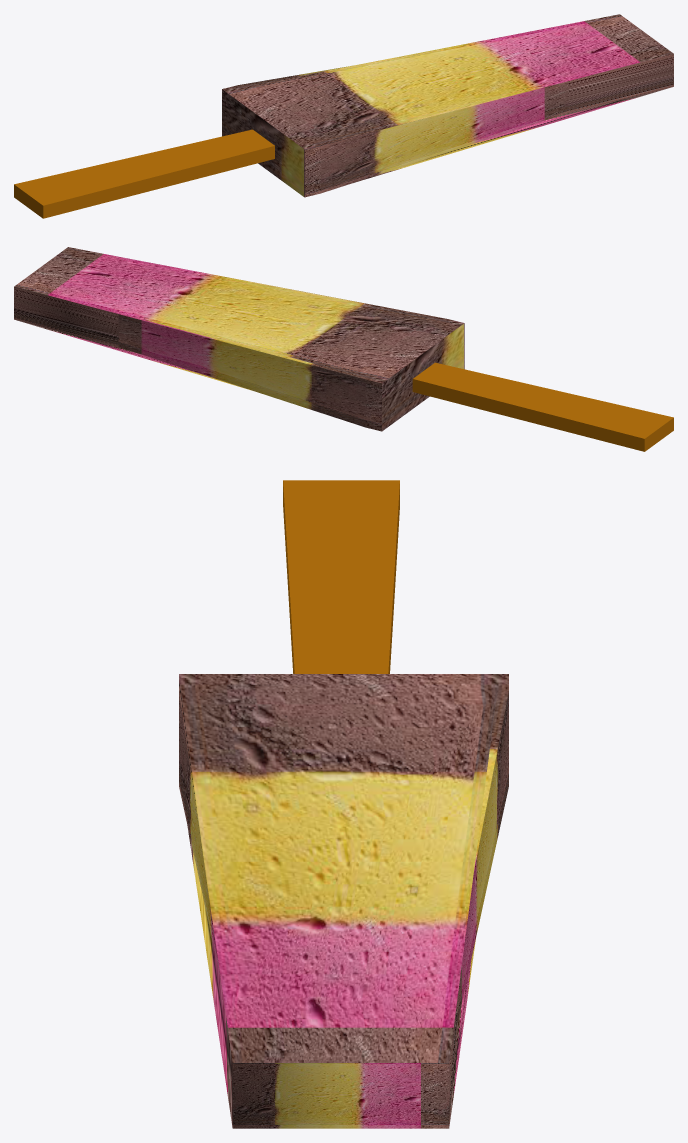
The model's file is ice candy.fbx.
3 renders of one model, top to bottom at view 1: azimuth 30°, elevation 25°; view 2: azimuth 150°, elevation 25°; view 3: azimuth 270°, elevation 25°, orthographic. The views are drawn at different scales.
Parts seen in each view (by area): view 1: pCube3; view 2: pCube3; view 3: pCube3.
Part boxes in pixels (left/top/right/bottom): pCube3: left=14, top=14, right=673, bottom=218; pCube3: left=14, top=247, right=673, bottom=451; pCube3: left=179, top=480, right=508, bottom=1128.
Bounding box in the file's own units: 17.82 × 1.32 × 4.12.
Materials: 2 (1 with a texture image).
